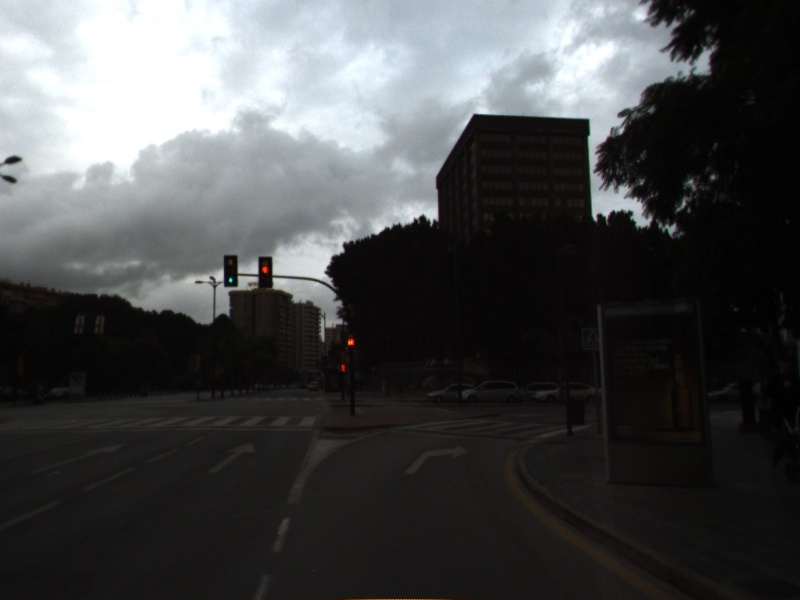RIGHT: (401, 441, 471, 477)
STRAIGHT: (27, 440, 128, 477), (206, 440, 258, 476)
